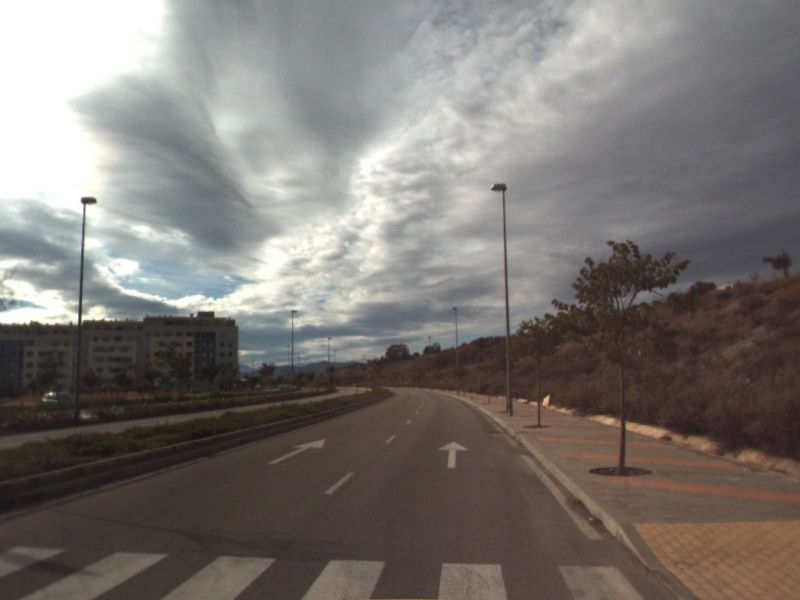STRAIGHT: (266, 436, 328, 466), (437, 439, 471, 470)
